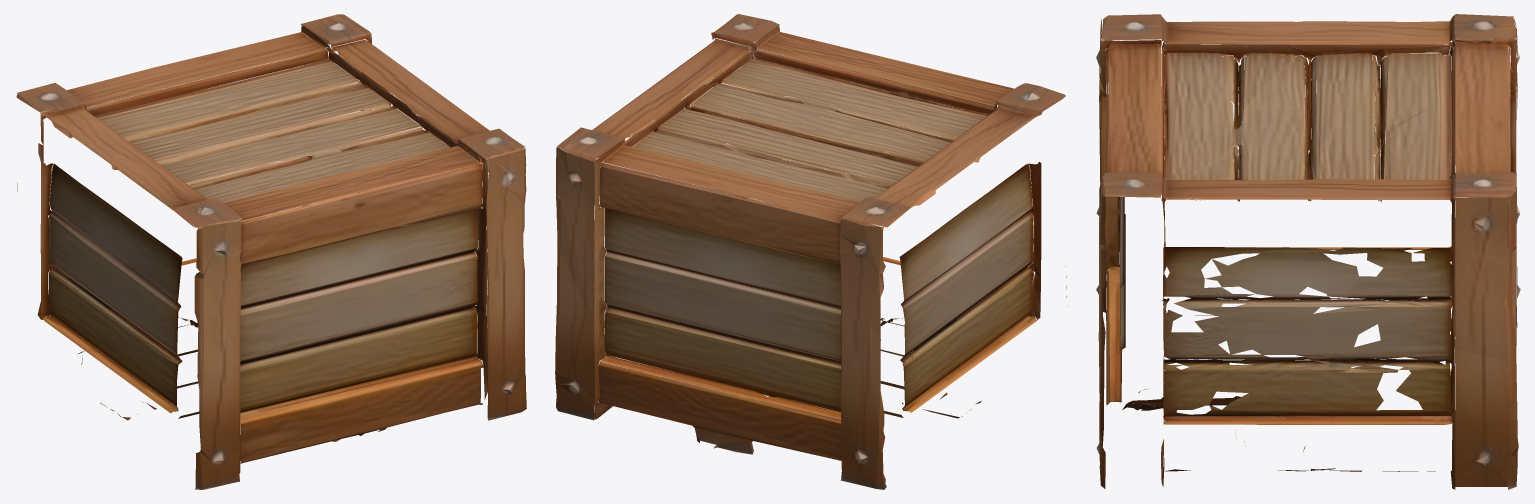
File: crate.glb
The picture shows the model from 3 angles, left to right: view 1: azimuth 30°, elevation 25°; view 2: azimuth 150°, elevation 25°; view 3: azimuth 270°, elevation 25°; orthographic projection. The views are drawn at different scales.
Parts seen in each view (by area): view 1: textured_mesh.obj.007; view 2: textured_mesh.obj.007; view 3: textured_mesh.obj.007.
Part boxes in pixels (bbox=[...]): textured_mesh.obj.007: bbox=[16, 14, 526, 489]; textured_mesh.obj.007: bbox=[555, 14, 1067, 489]; textured_mesh.obj.007: bbox=[1096, 14, 1520, 489].
Size of the model in its own units: 1.23 by 0.9372 by 1.2.
1 material, 1 textured.
